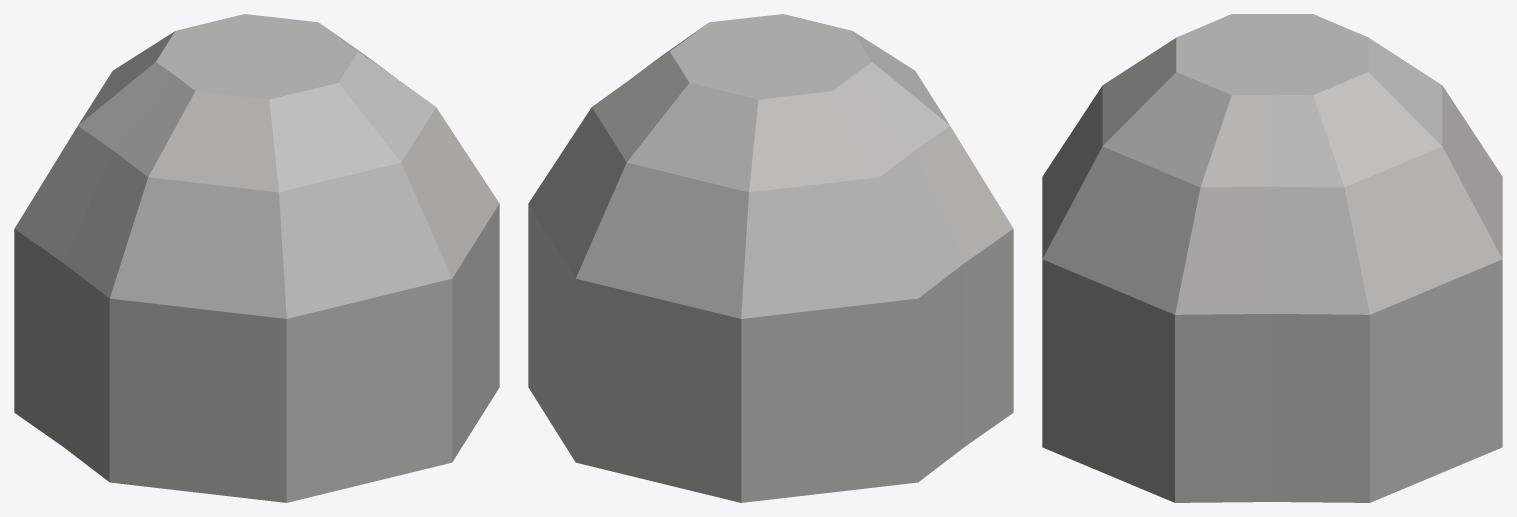
The model's file is Bullet_Pistol.fbx.
The picture shows the model from 3 angles, left to right: view 1: azimuth 30°, elevation 25°; view 2: azimuth 150°, elevation 25°; view 3: azimuth 270°, elevation 25°; orthographic projection. The views are drawn at different scales.
Visible parts, largest first — view 1: Shell; view 2: Shell; view 3: Shell.
Part boxes in pixels (bbox=[...]): Shell: bbox=[14, 14, 499, 502]; Shell: bbox=[528, 14, 1013, 502]; Shell: bbox=[1042, 14, 1502, 502].
Size of the model in its own units: 0.0293 by 0.0247 by 0.0293.
